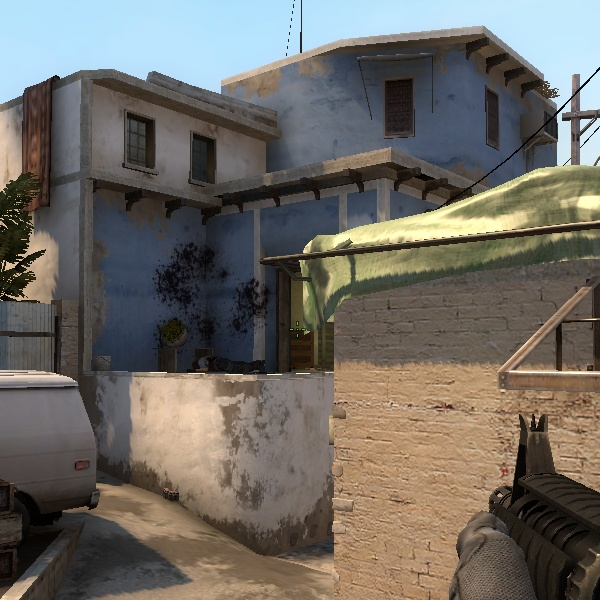ct_body: (2, 164, 55, 301)
